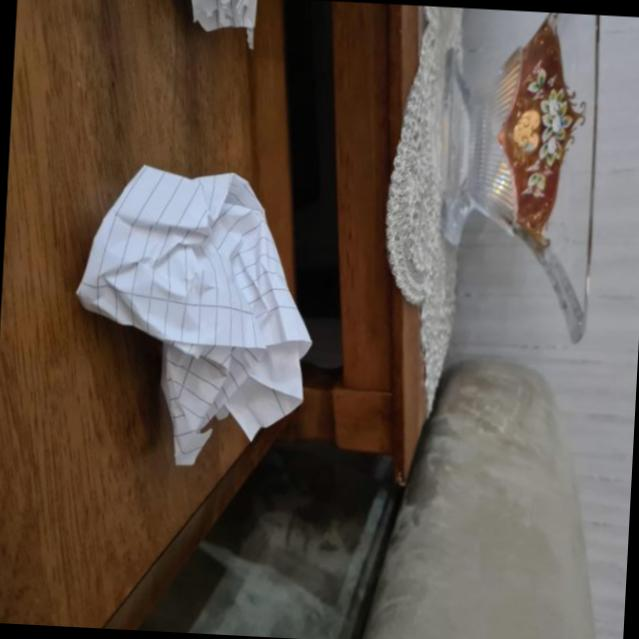cardboard paper: (77, 166, 310, 465), (192, 0, 257, 49)
